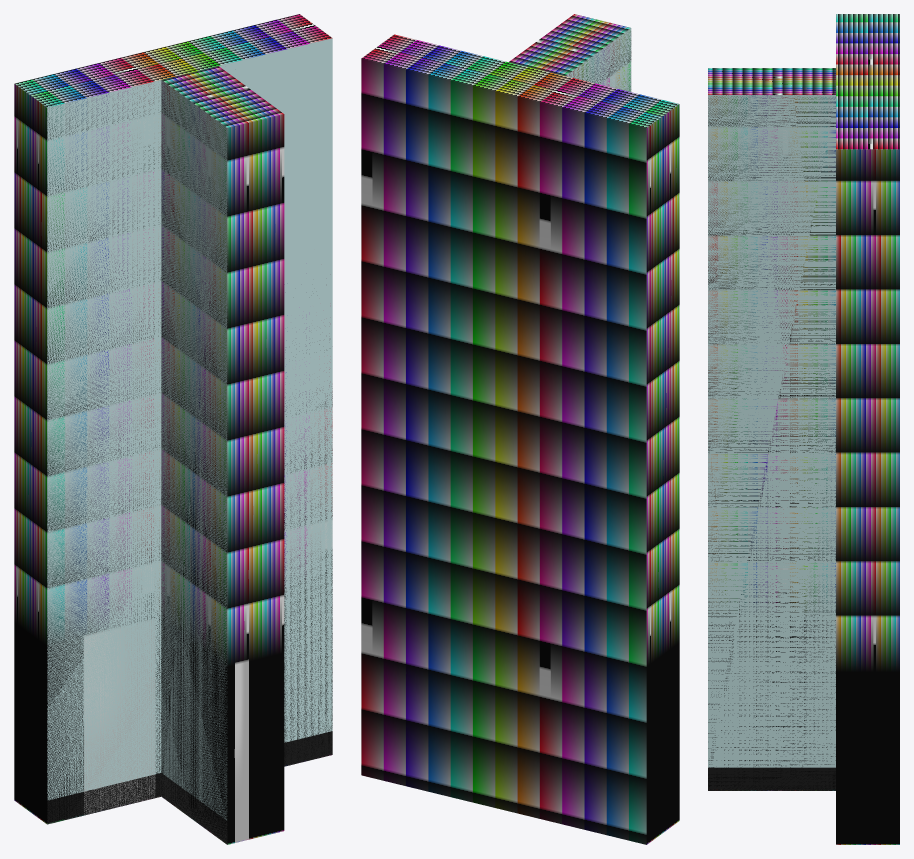
The model's file is outerWall_T_1x1.fbx.
3 renders of one model, left to right at view 1: azimuth 30°, elevation 25°; view 2: azimuth 150°, elevation 25°; view 3: azimuth 270°, elevation 25°, orthographic. The views are drawn at different scales.
Visible parts, largest first — view 1: outerWall_T_1x1, trigger_1, trigger_2; view 2: trigger_2, trigger_1, outerWall_T_1x1; view 3: outerWall_T_1x1, trigger_2, trigger_1.
Part boxes in pixels (x1,y1,x2,y2): outerWall_T_1x1: (47, 38, 332, 844); trigger_1: (161, 66, 284, 844); trigger_2: (14, 14, 332, 824); trigger_2: (361, 34, 679, 844); trigger_1: (509, 14, 631, 91); outerWall_T_1x1: (566, 28, 631, 91); outerWall_T_1x1: (708, 95, 835, 790); trigger_2: (836, 14, 899, 844); trigger_1: (708, 68, 835, 790).
Size of what is drawn, in the model's own units: 125 by 300 by 75.
